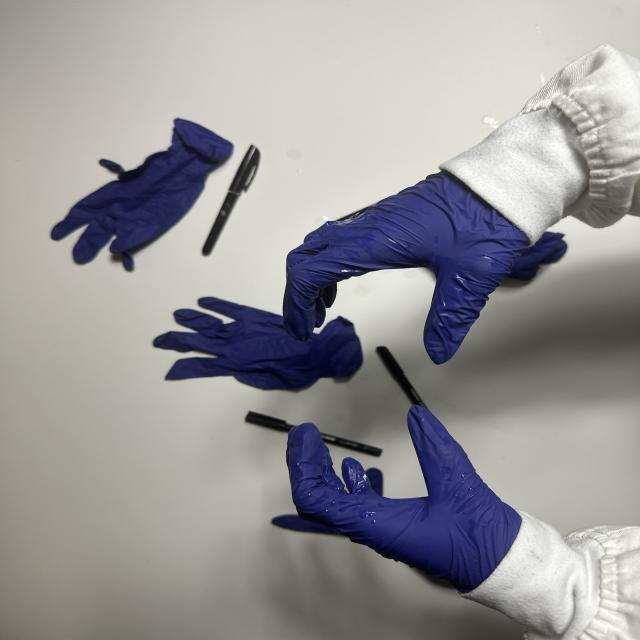gloves_contaminated: (283, 174, 528, 364), (287, 406, 521, 592)
